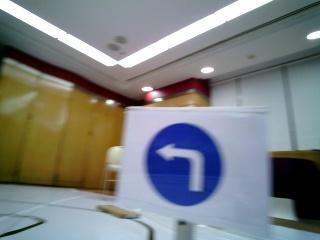left: (129, 110, 263, 219)
